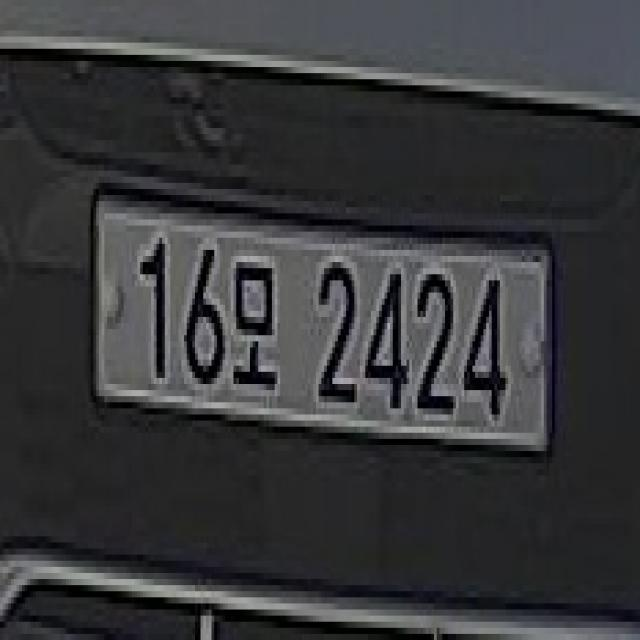1: (129, 220, 176, 402)
2: (305, 250, 365, 427), (412, 250, 461, 433)
4: (458, 262, 514, 439), (363, 256, 412, 433)
6: (176, 225, 228, 402)
license_plate: (82, 170, 558, 482)
mo: (228, 244, 286, 414)
